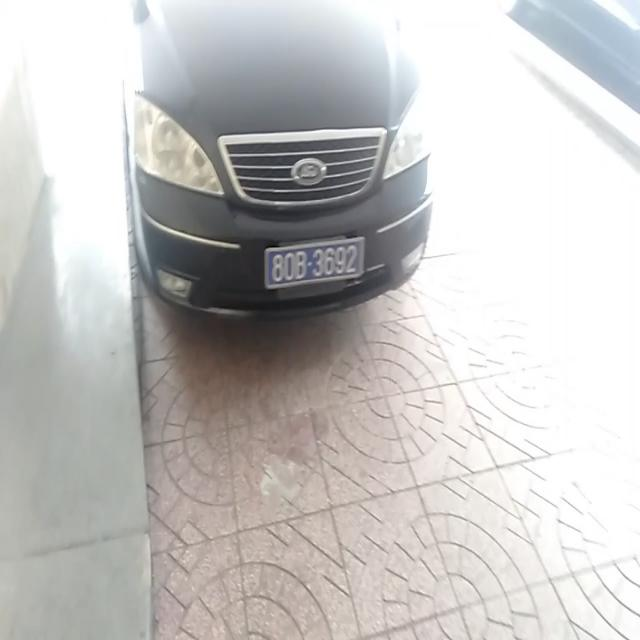bien_xanh: (262, 236, 364, 286)
